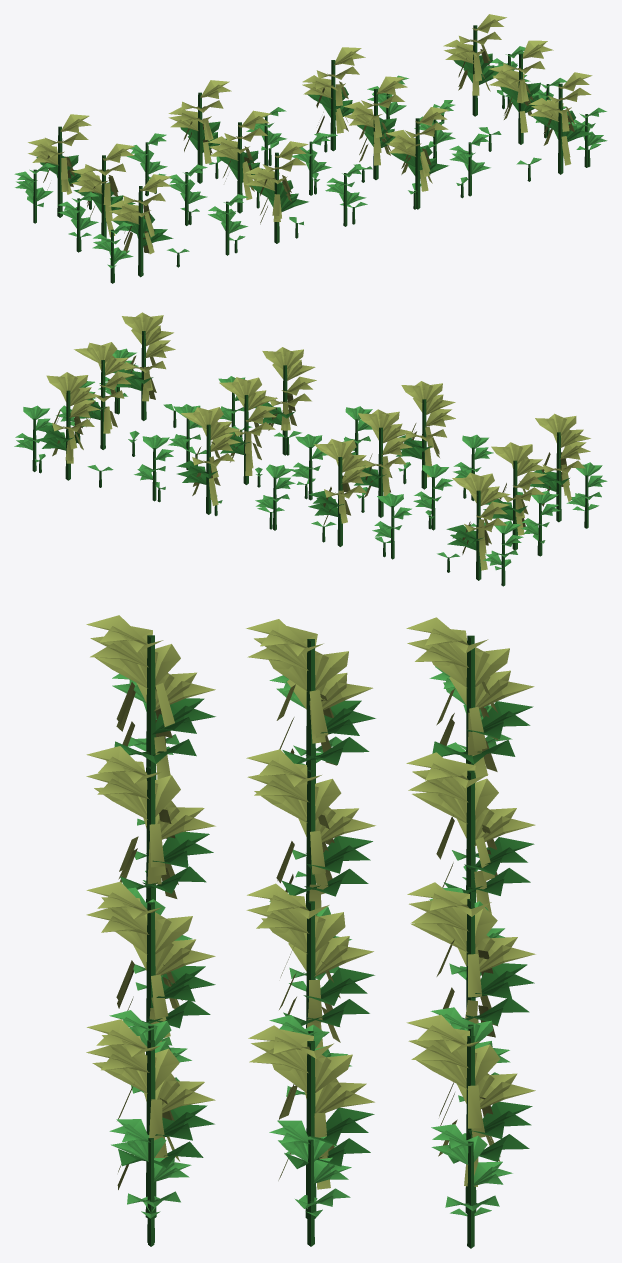
Rendered from crop_soybean.glb.
3 renders of one model, top to bottom at view 1: azimuth 30°, elevation 25°; view 2: azimuth 150°, elevation 25°; view 3: azimuth 270°, elevation 25°, orthographic. The views are drawn at different scales.
Visible parts, largest first — view 1: Stage3, Stage2, Stage1; view 2: Stage3, Stage2, Stage1; view 3: Stage3, Stage2, Stage1.
Boxes of the visible parts, <box> form: Stage3: <box>28,14,593,277</box>; Stage2: <box>14,46,607,283</box>; Stage1: <box>27,90,600,283</box>; Stage3: <box>36,312,590,580</box>; Stage2: <box>14,348,607,586</box>; Stage1: <box>35,390,598,572</box>; Stage3: <box>86,615,535,1218</box>; Stage2: <box>109,666,512,1248</box>; Stage1: <box>134,738,491,1246</box>.
Size of the model in its own units: 2.64 by 0.4692 by 1.01.
